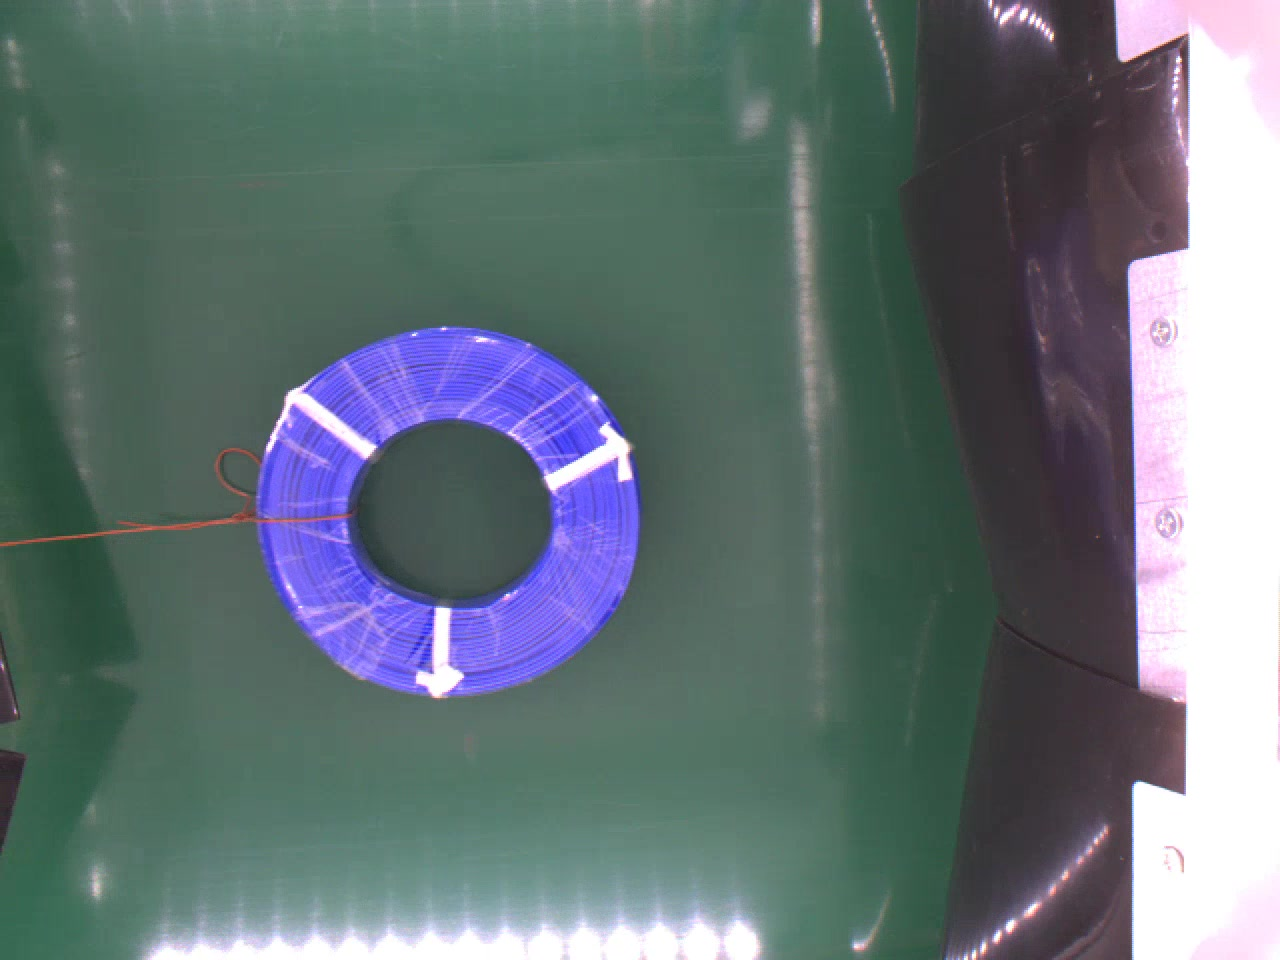blue: (254, 322, 649, 705)
